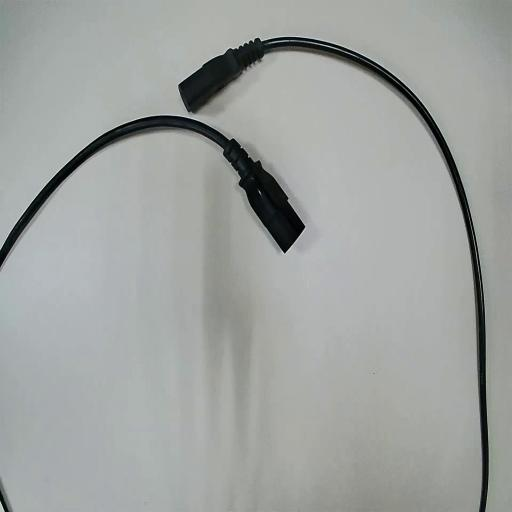wire: (180, 38, 487, 511), (0, 116, 303, 264)
